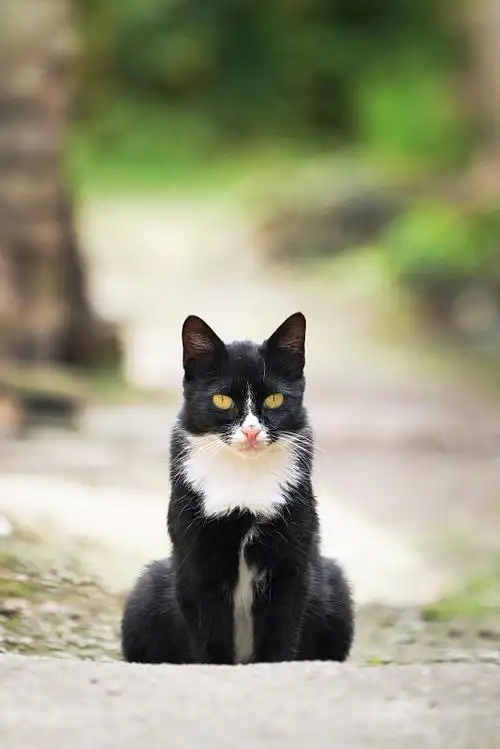奶牛猫: (122, 313, 352, 662)
